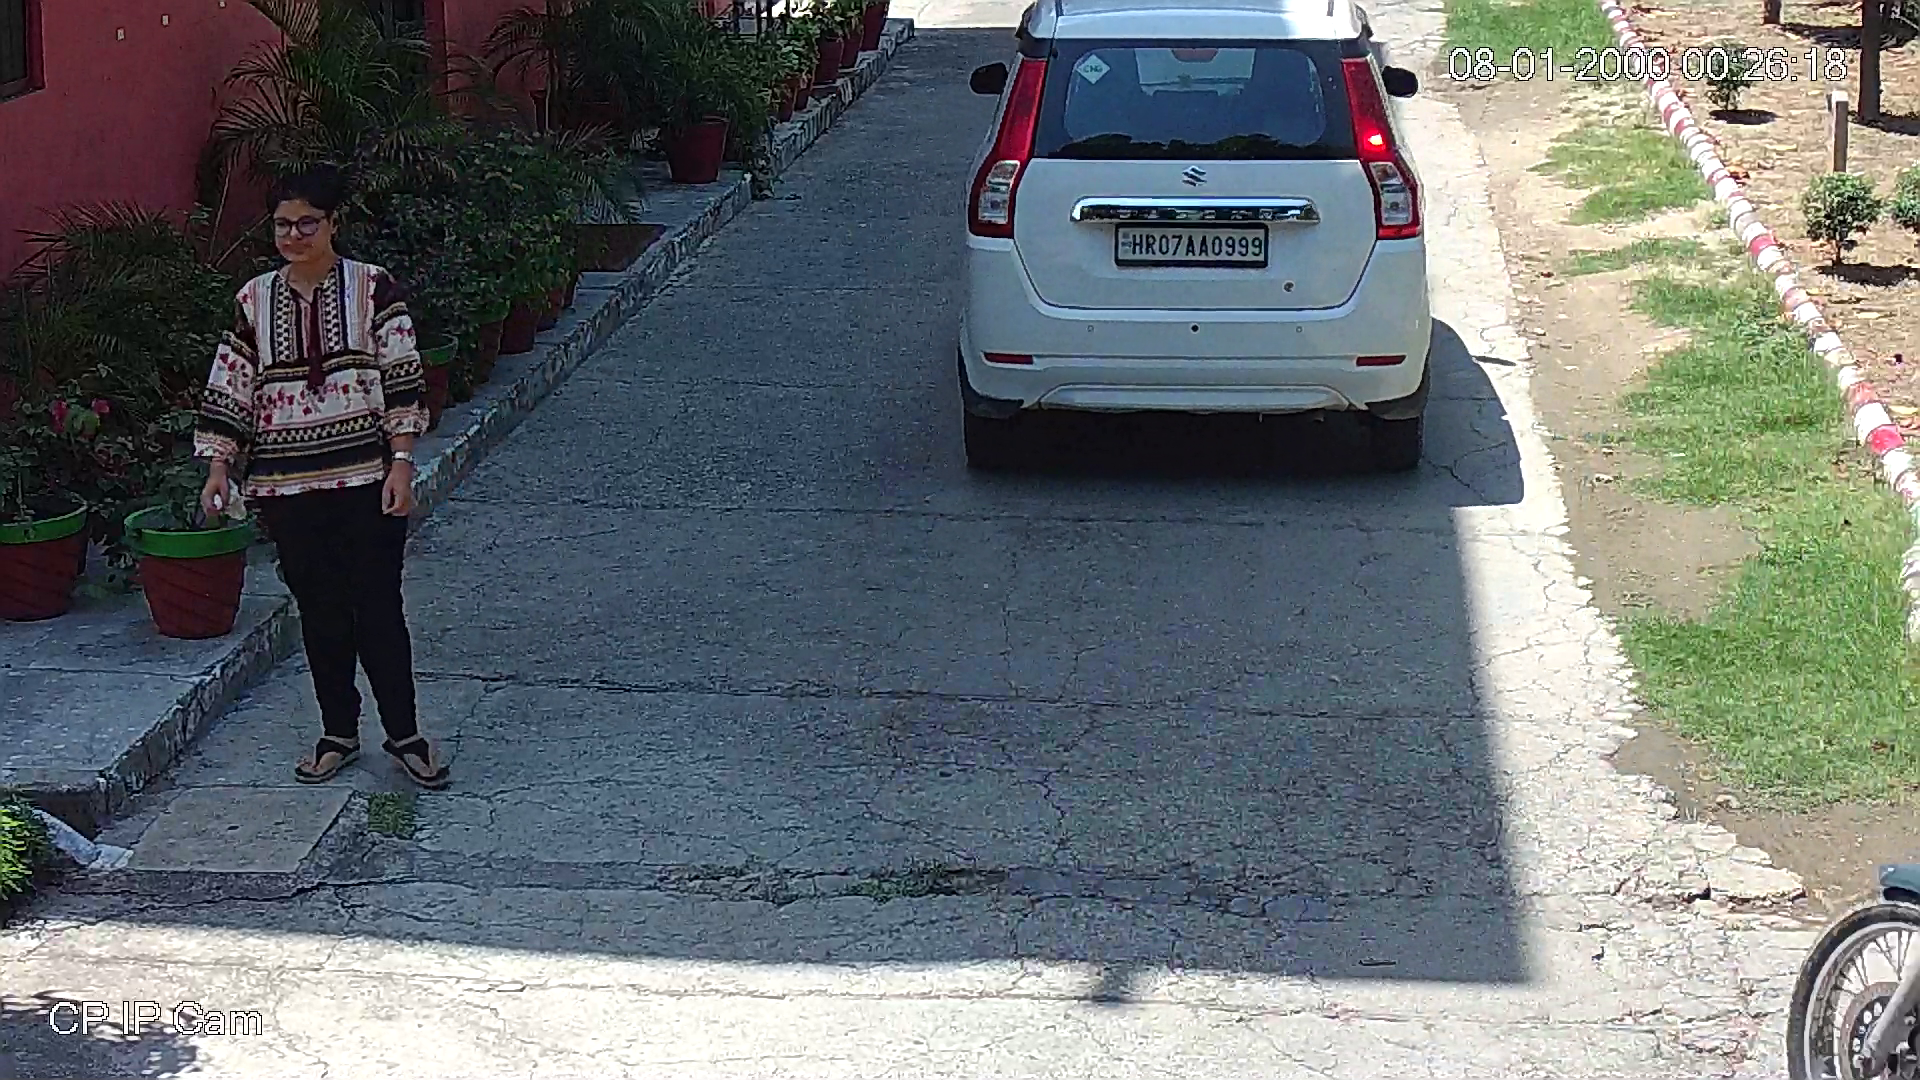plate: (1108, 223, 1278, 266)
